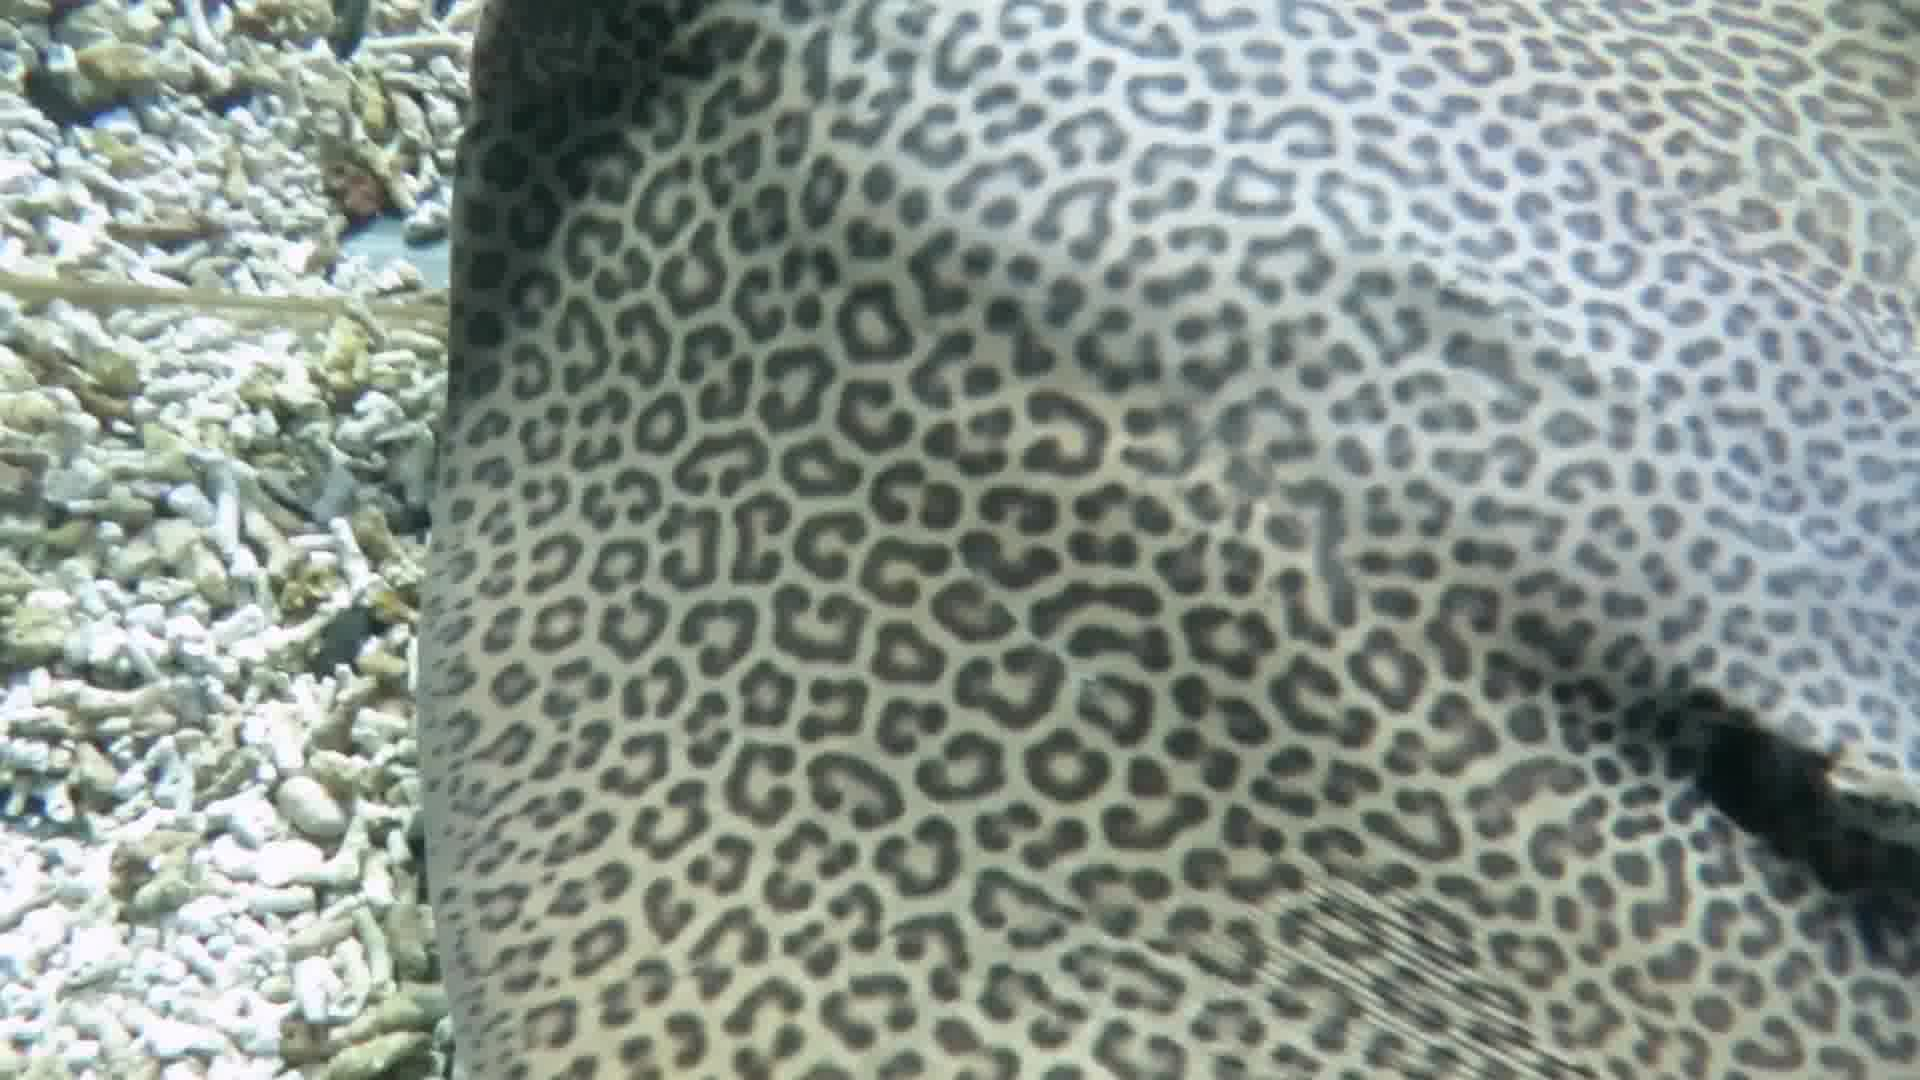Himantura uarnak: (357, 1, 1920, 1080)
